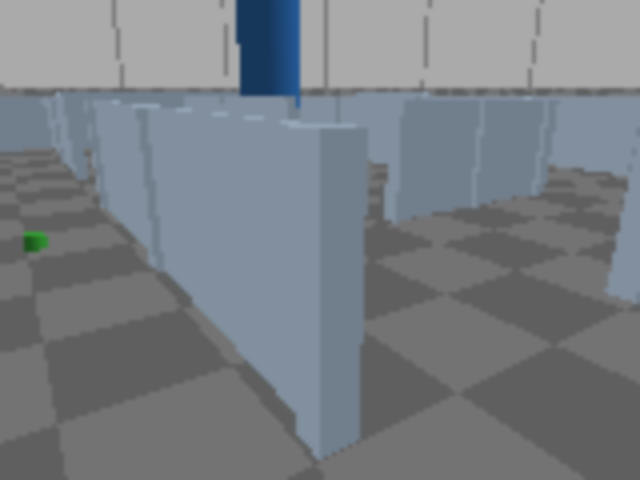puck: (23, 232, 48, 250)
